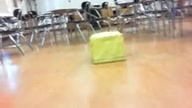cube: (88, 32, 126, 64)
